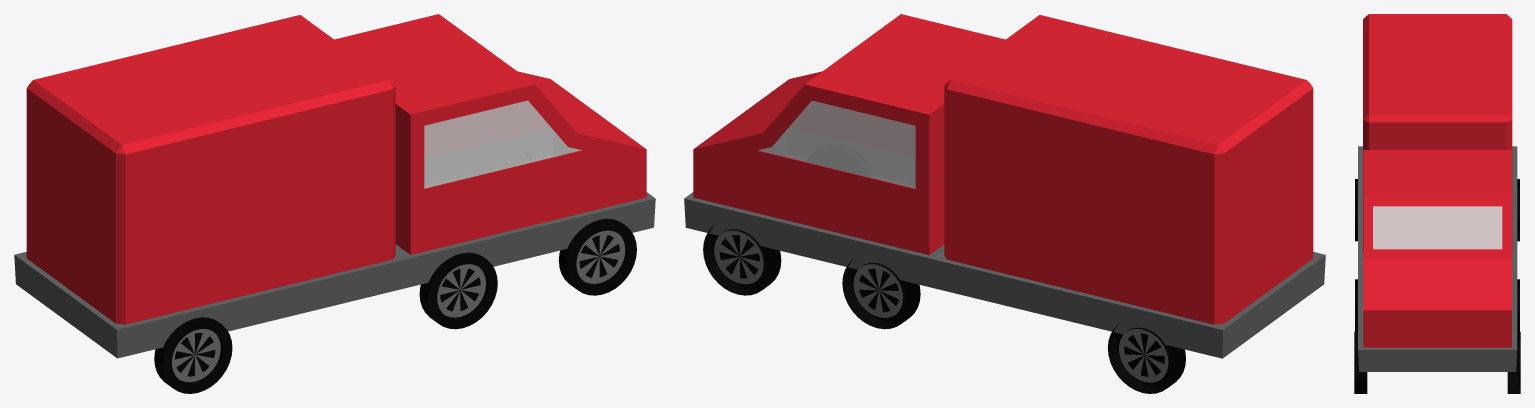
The model's file is TruckDrive_TFSGJ_Spring2025.fbx.
3 views of the same model, side by side, from view 1: azimuth 30°, elevation 25°; view 2: azimuth 150°, elevation 25°; view 3: azimuth 270°, elevation 25° (orthographic). The views are drawn at different scales.
Parts seen in each view (by area): view 1: Truck, Tire.003, Tire.005, Tire.004; view 2: Truck, Tire, Tire.001, Tire.002; view 3: Truck, Tire.003, Tire, Tire.002, Tire.005.
Boxes of the visible parts, left/top/right/bottom form: Truck: left=14, top=14, right=655, bottom=358; Tire.003: left=558, top=218, right=636, bottom=295; Tire.005: left=154, top=317, right=232, bottom=393; Tire.004: left=419, top=252, right=497, bottom=329; Truck: left=684, top=14, right=1325, bottom=358; Tire: left=703, top=225, right=781, bottom=295; Tire.001: left=842, top=258, right=920, bottom=329; Tire.002: left=1108, top=324, right=1185, bottom=393; Truck: left=1358, top=14, right=1517, bottom=371; Tire.003: left=1354, top=331, right=1367, bottom=393; Tire: left=1507, top=331, right=1520, bottom=393; Tire.002: left=1517, top=179, right=1519, bottom=241; Tire.005: left=1355, top=179, right=1357, bottom=241.
Bounding box in the file's own units: 260 × 119 × 89.85.
